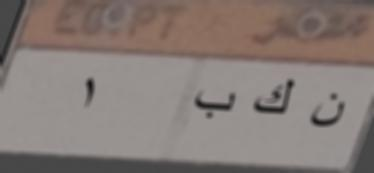1: (69, 72, 106, 114)
baa: (193, 86, 236, 122)
kaaf: (252, 64, 296, 127)
noon: (306, 92, 348, 140)
